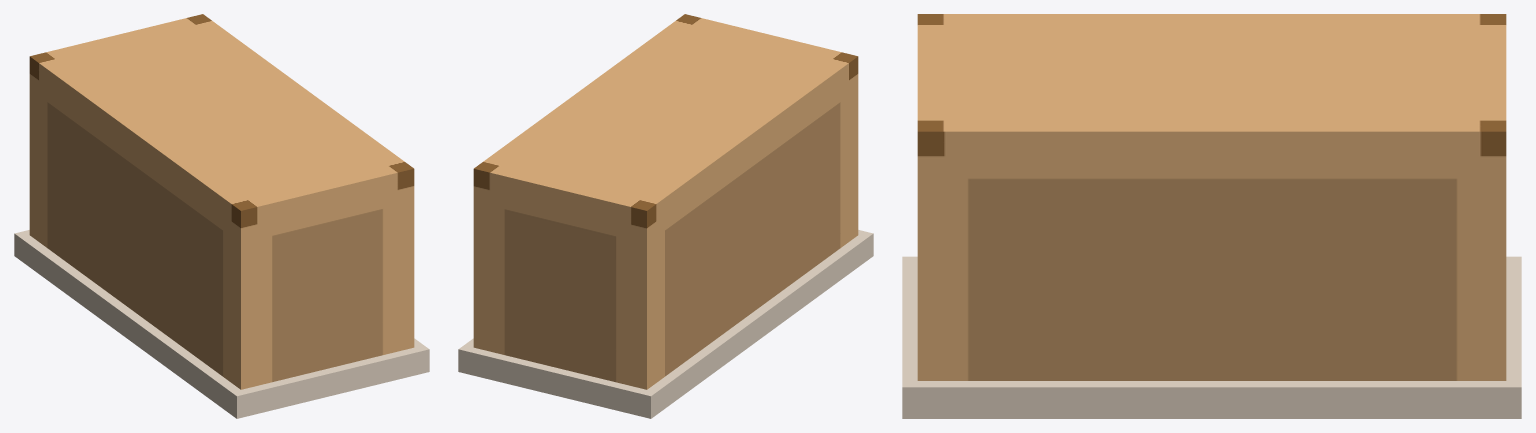
The model's file is PedestalOneLong.fbx.
The picture shows the model from 3 angles, left to right: view 1: azimuth 30°, elevation 25°; view 2: azimuth 150°, elevation 25°; view 3: azimuth 270°, elevation 25°; orthographic projection. The views are drawn at different scales.
Visible parts, largest first — view 1: PedestalOne; view 2: PedestalOne; view 3: PedestalOne.
Boxes of the visible parts, x1,y1,x2,y2 form: PedestalOne: (14, 14, 429, 418); PedestalOne: (458, 14, 873, 418); PedestalOne: (902, 14, 1521, 418).
Size of the model in its own units: 2 by 2 by 4.
